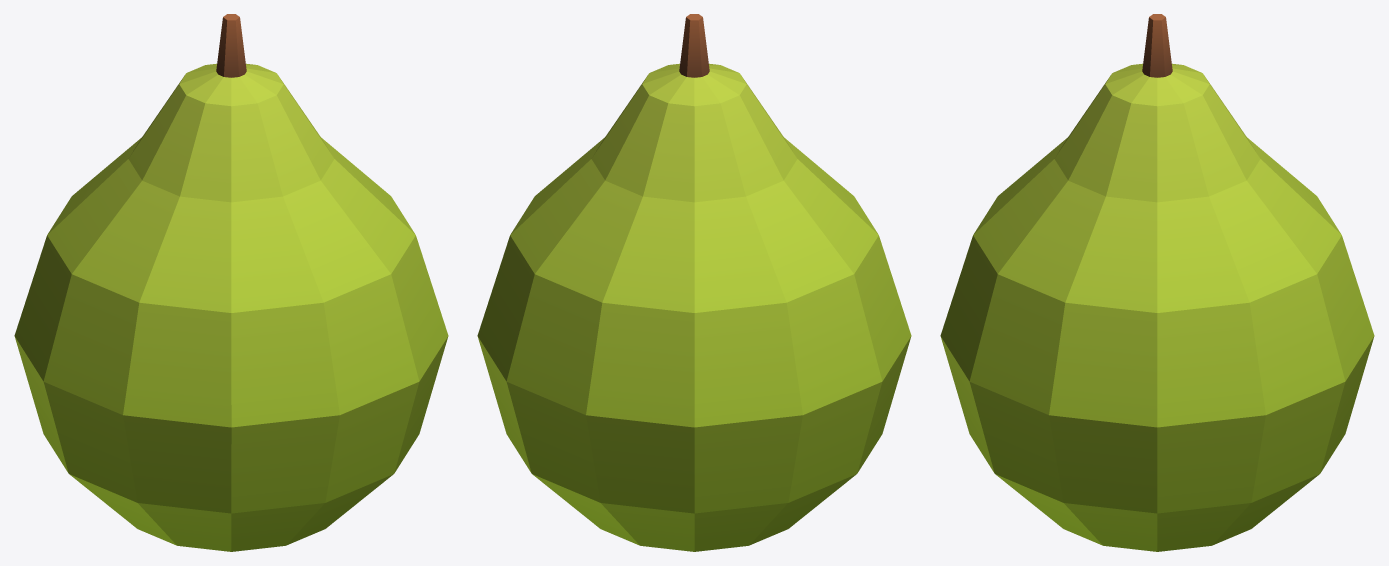
Rendered from Pomelo.fbx.
3 renders of one model, left to right at view 1: azimuth 30°, elevation 25°; view 2: azimuth 150°, elevation 25°; view 3: azimuth 270°, elevation 25°, orthographic.
Visible parts, largest first — view 1: Pomelo; view 2: Pomelo; view 3: Pomelo.
Boxes of the visible parts, x1,y1,x2,y2 form: Pomelo: (14,14,448,551); Pomelo: (477,14,911,551); Pomelo: (940,14,1374,551).
Size of the model in its own units: 18.1 by 23.71 by 18.1.
